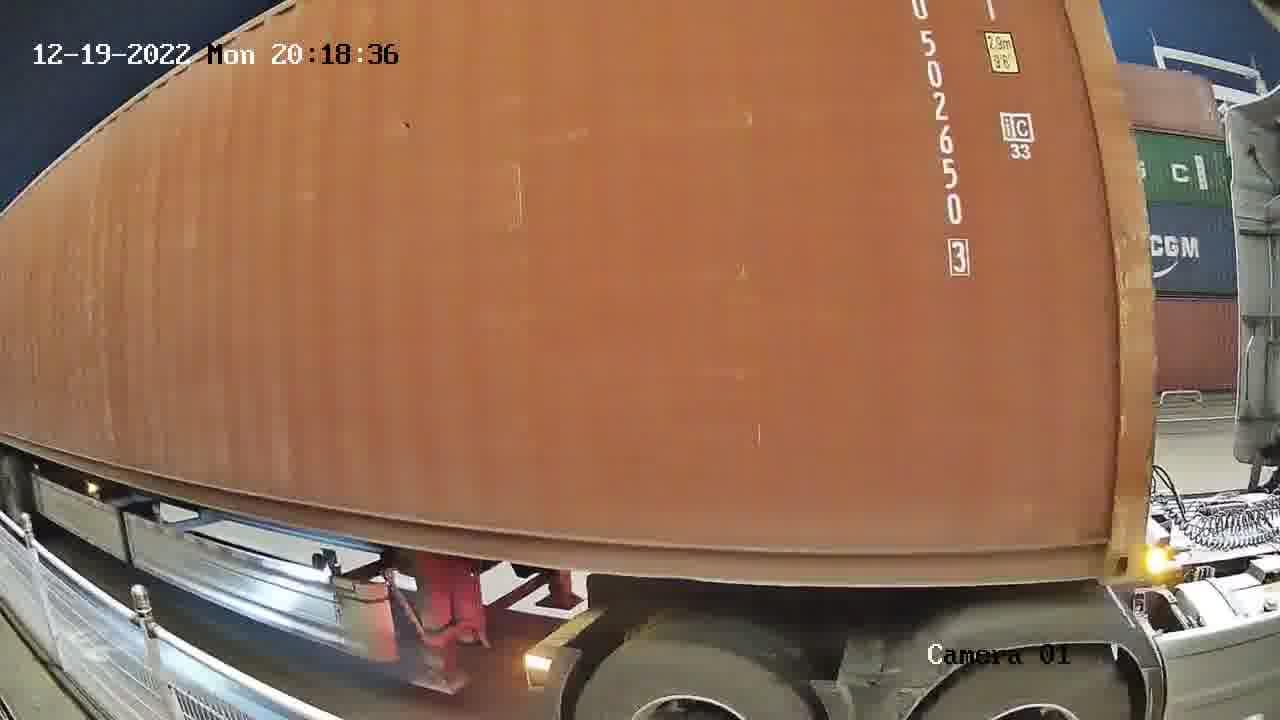Hole_R: (1053, 500, 1149, 582)
Tire: (575, 641, 807, 713), (922, 653, 1135, 719)
